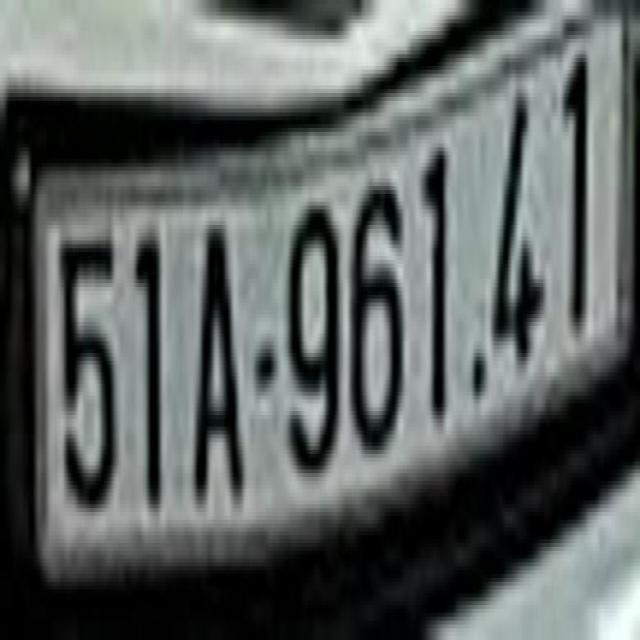1: (422, 104, 460, 430), (559, 35, 592, 357), (133, 217, 168, 508)
4: (488, 43, 542, 388)
5: (58, 232, 119, 520)
6: (350, 155, 404, 454)
9: (284, 190, 344, 485)
A: (189, 190, 246, 497)
